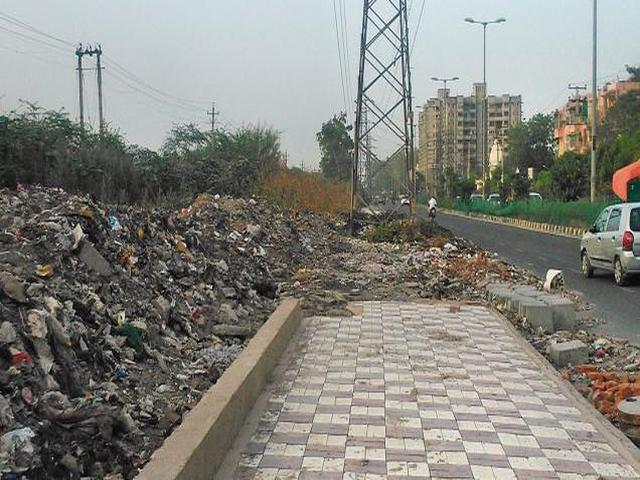garbage: (6, 189, 160, 445), (176, 213, 243, 332), (264, 216, 330, 286)
